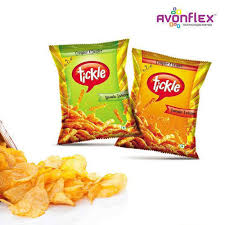plastic: (43, 37, 212, 164)
